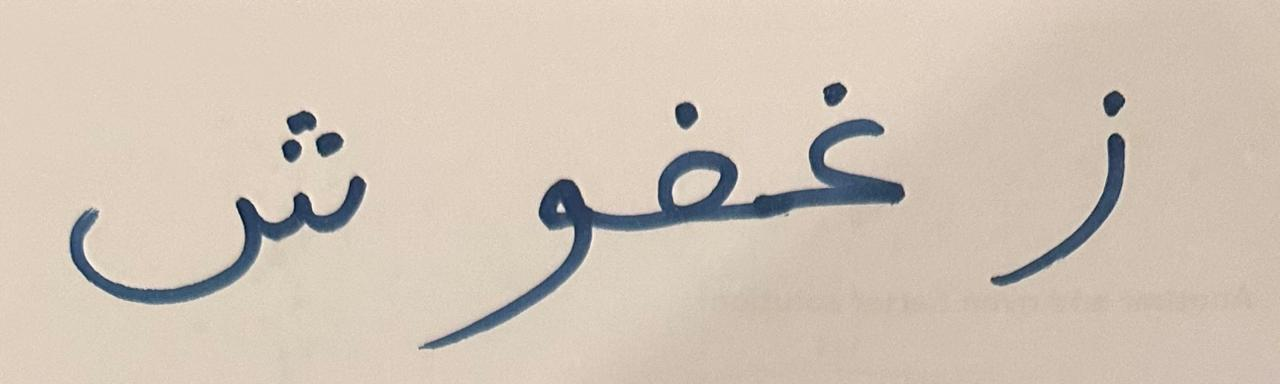feh: (611, 30, 751, 279)
ghain: (755, 17, 937, 284)
hamza: (944, 25, 1223, 329)
tah: (27, 53, 391, 336)
yeh: (396, 101, 606, 371)
